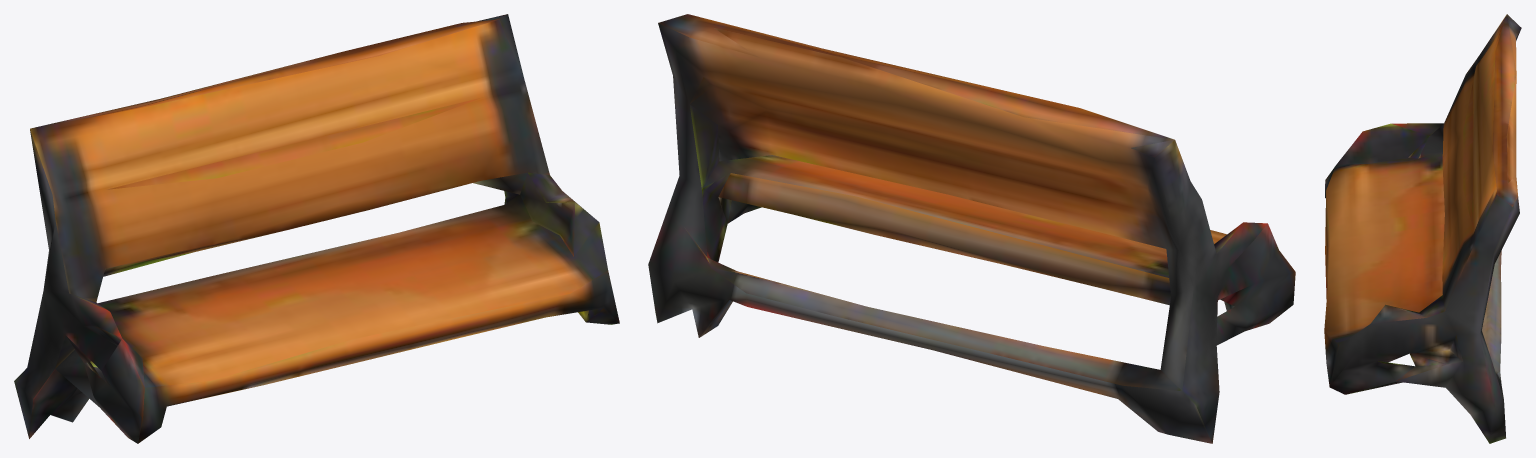
File: bench.fbx
3 renders of one model, left to right at view 1: azimuth 30°, elevation 25°; view 2: azimuth 150°, elevation 25°; view 3: azimuth 270°, elevation 25°, orthographic. The views are drawn at different scales.
Visible parts, largest first — view 1: Mesh_0.001; view 2: Mesh_0.001; view 3: Mesh_0.001.
Part boxes in pixels (x1,y1,x2,y2): Mesh_0.001: (14,14,619,443); Mesh_0.001: (648,14,1295,443); Mesh_0.001: (1324,14,1521,443).
Size of the model in its own units: 176 by 96.43 by 71.98.
